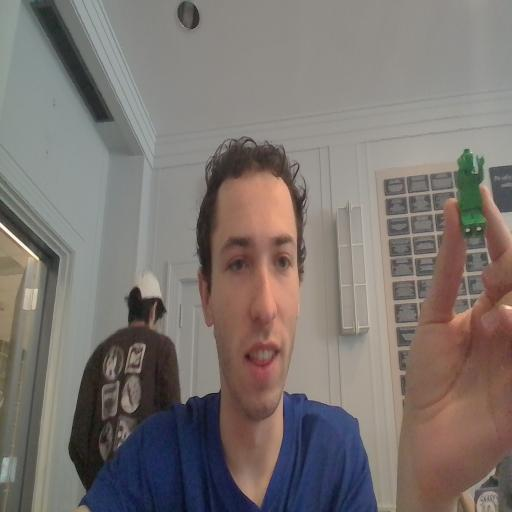green LEGO minifig: (454, 148, 490, 236)
